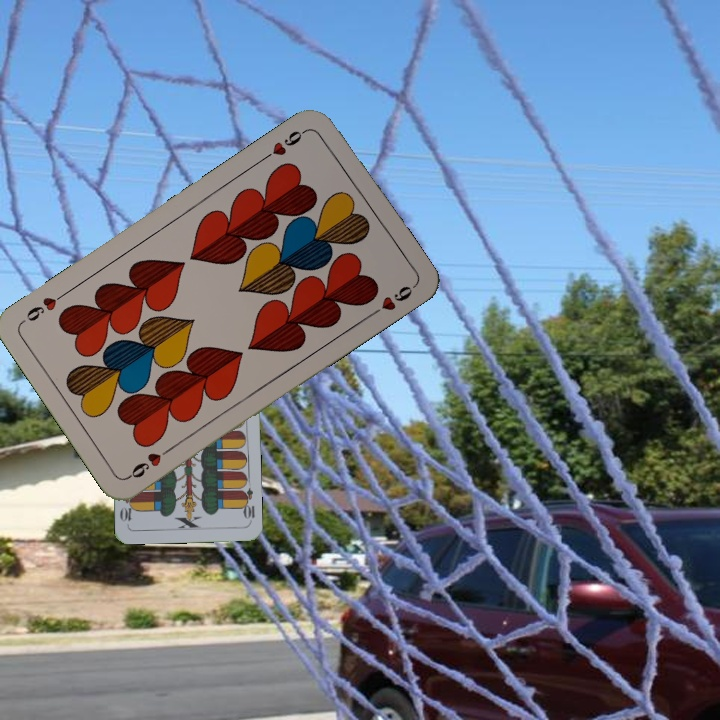E10: (237, 484, 257, 525)
H9: (123, 443, 176, 482), (258, 124, 311, 163)
